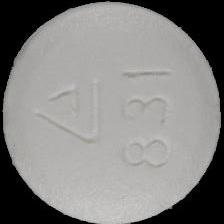43063-663: (0, 0, 224, 224)
